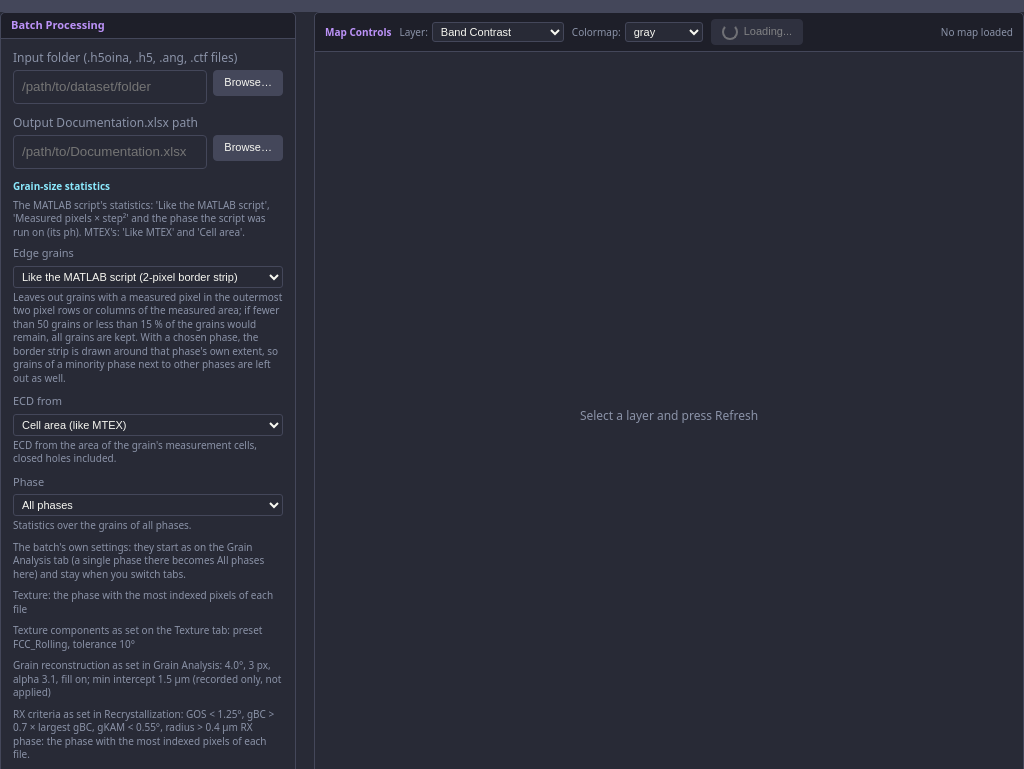
Test: BatchTab: what it reads, records and waits for › says what is missing while the button is disabled only for want of a path
Type "F" into the field with placeholder "/path/to/dataset/folder" at {"x": 110, "y": 86}, box top-left (13, 70), bottom-right (207, 104)
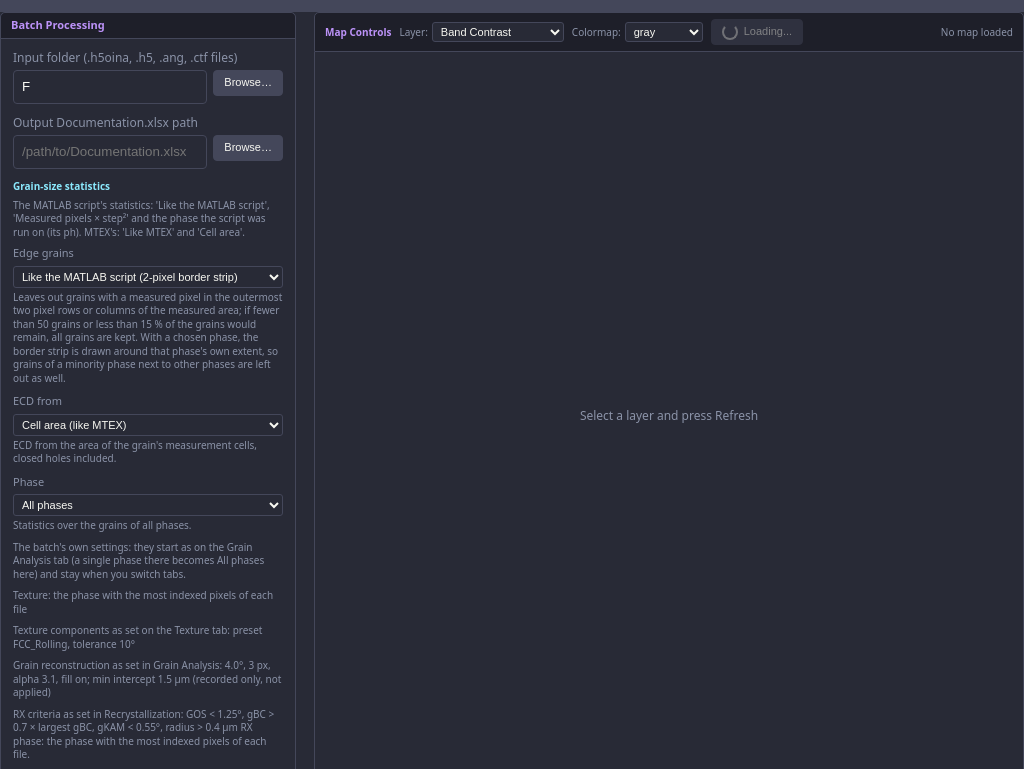
Type "O.xlsx" into the field with placeholder "/path/to/Documentation.xlsx" at {"x": 110, "y": 152}, box top-left (13, 134), bottom-right (207, 168)
(page scrolled)
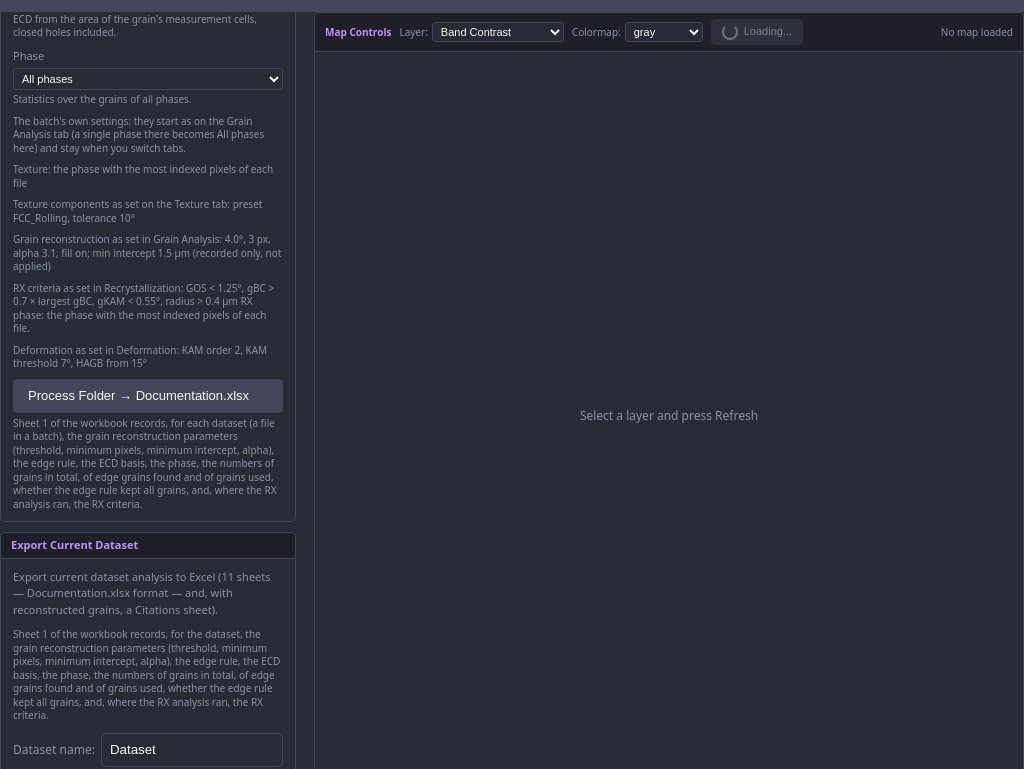
expect the button "Process Folder → Documentation.xlsx" is enabled: met, box top-left (13, 378), bottom-right (283, 412)
